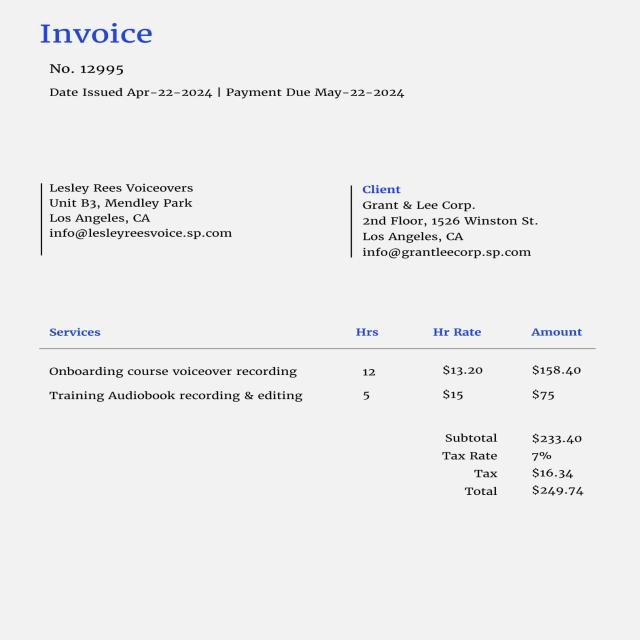paragraph: (37, 55, 419, 112), (354, 182, 550, 262), (429, 423, 605, 510), (42, 175, 240, 247), (38, 18, 158, 47)
table: (23, 306, 604, 414)
